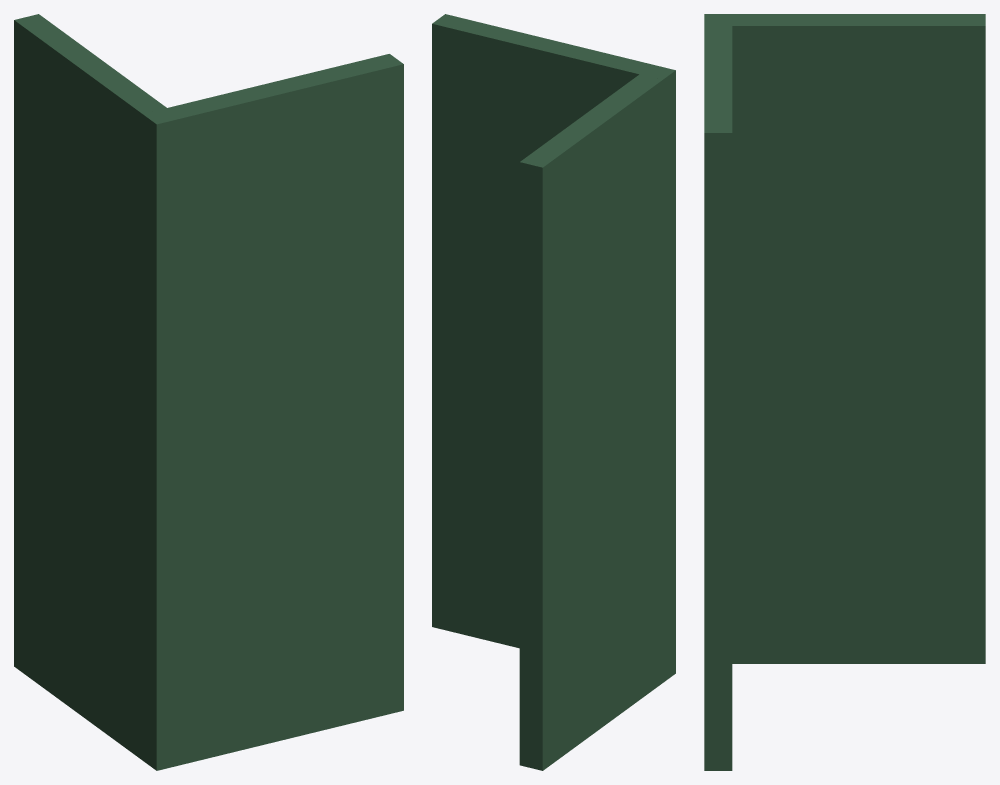
The model's file is inside-corner-section_final-optimized.glb.
The picture shows the model from 3 angles, left to right: view 1: azimuth 30°, elevation 25°; view 2: azimuth 150°, elevation 25°; view 3: azimuth 270°, elevation 25°; orthographic projection. The views are drawn at different scales.
Parts seen in each view (by area): view 1: PC_legX, PC_legY; view 2: PC_legY, PC_legX; view 3: PC_legY, PC_legX.
Part boxes in pixels (x1,y1,x2,y2): PC_legX: (142,54,403,770); PC_legY: (14,14,166,760); PC_legY: (519,74,662,770); PC_legX: (432,14,675,682); PC_legY: (732,14,985,663); PC_legX: (704,14,732,770).
Bounding box in the file's own units: 1 × 2.5 × 1.
